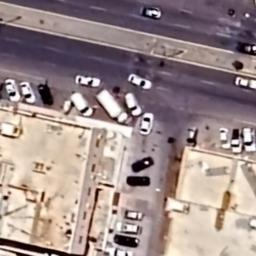SUV: (123, 92, 142, 118), (241, 125, 256, 153), (116, 221, 142, 235)
pickup: (231, 125, 242, 155)
sedan: (128, 72, 154, 92), (35, 83, 55, 108), (18, 81, 38, 105), (73, 72, 102, 88), (111, 234, 141, 249), (131, 156, 155, 174), (4, 77, 20, 103), (139, 110, 154, 136), (138, 4, 162, 20), (218, 124, 232, 151), (233, 74, 256, 90), (120, 208, 146, 222), (126, 174, 150, 189), (235, 38, 256, 55), (184, 124, 198, 148), (107, 247, 133, 256)
truck: (96, 88, 130, 126)
van: (69, 91, 93, 119)
